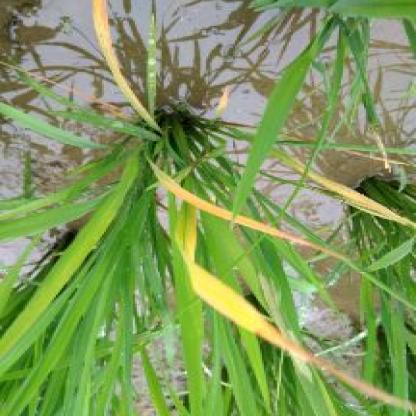Tungro: (93, 1, 152, 121)
